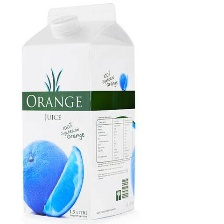carton: (13, 2, 147, 221)
